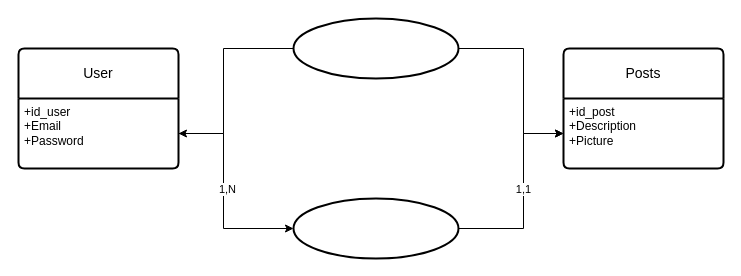
The diagram is 741 pixels wide and 276 high, and some of its shapes have lost their labels. The shapes that lost their labels are listed below. From the top down, each one's centre as x and y in pixels, then its label:
At point (375, 48): "Like".
At point (375, 228): "Post".
